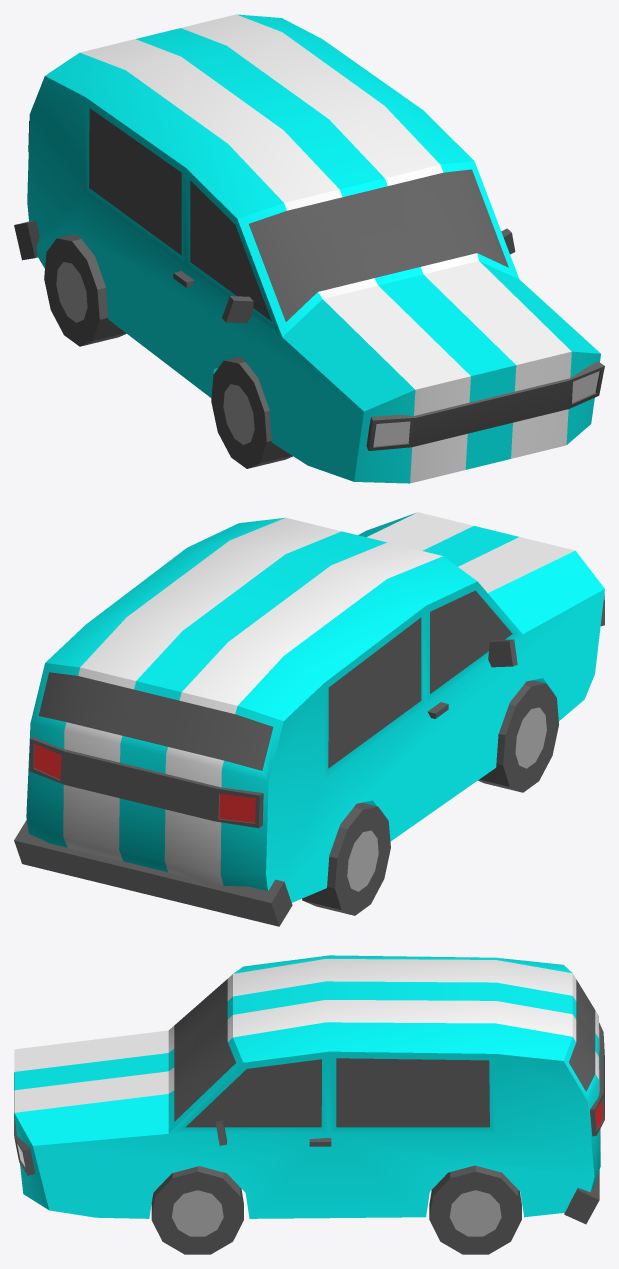
File: SM_Car_07_03.FBX
The picture shows the model from 3 angles, top to bottom: view 1: azimuth 30°, elevation 25°; view 2: azimuth 150°, elevation 25°; view 3: azimuth 270°, elevation 25°; orthographic projection. The views are drawn at different scales.
Parts seen in each view (by area): view 1: SM_Car_07_03, SM_Wheel_RBack001, SM_Wheel_LFront001; view 2: SM_Car_07_03, SM_Wheel_RBack001, SM_Wheel_LFront001; view 3: SM_Car_07_03, SM_Wheel_LBack001, SM_Wheel_LFront002.
Part boxes in pixels (x1=…): SM_Car_07_03: x1=14, y1=14, x2=604, y2=483; SM_Wheel_RBack001: x1=44, y1=234, x2=126, y2=346; SM_Wheel_LFront001: x1=211, y1=356, x2=292, y2=468; SM_Car_07_03: x1=14, y1=512, x2=604, y2=926; SM_Wheel_RBack001: x1=302, y1=802, x2=390, y2=915; SM_Wheel_LFront001: x1=478, y1=680, x2=558, y2=792; SM_Car_07_03: x1=14, y1=955, x2=604, y2=1224; SM_Wheel_LBack001: x1=429, y1=1165, x2=521, y2=1254; SM_Wheel_LFront002: x1=151, y1=1166, x2=243, y2=1254.
Size of the model in its own units: 1.49 by 1.21 by 3.16.
Materials: 1 (1 with a texture image).
